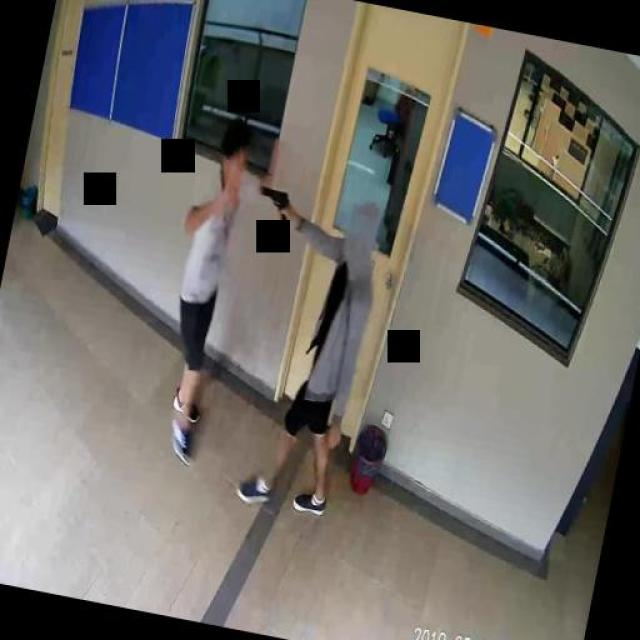gun: (255, 184, 294, 221)
